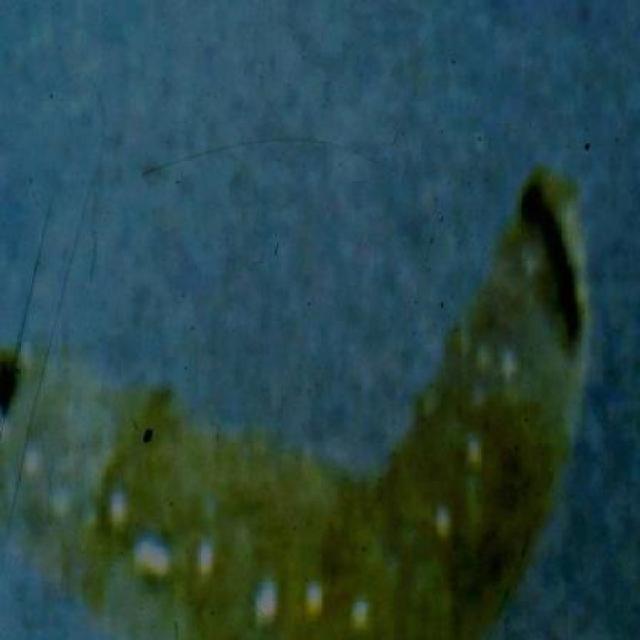whorl-maggot: (0, 155, 599, 638)
